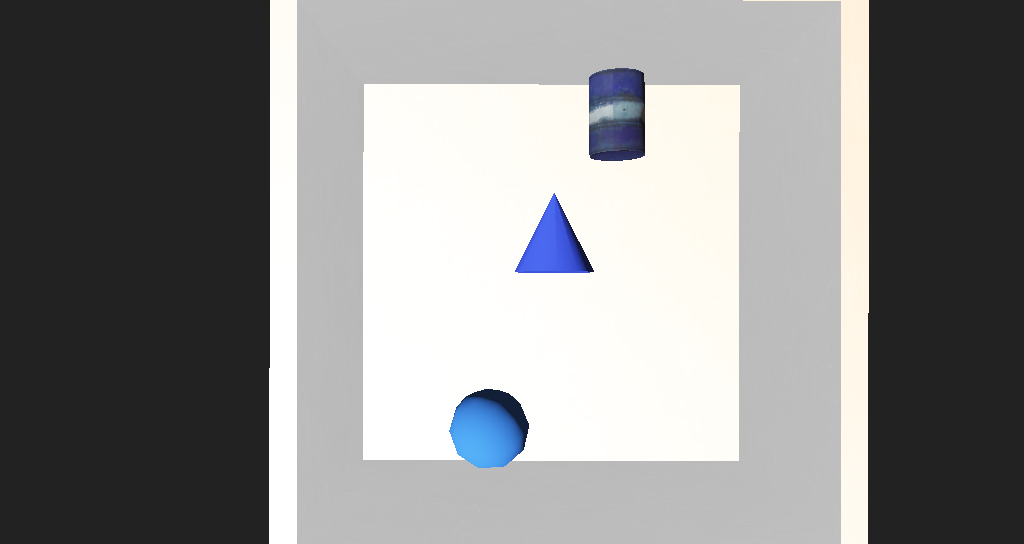cone: (536, 155, 583, 208)
cylinder: (482, 220, 542, 267)
sphere: (428, 336, 488, 379)
